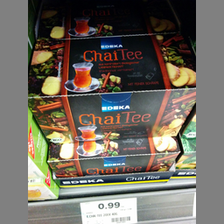tea: (28, 33, 195, 142), (46, 136, 180, 175)
